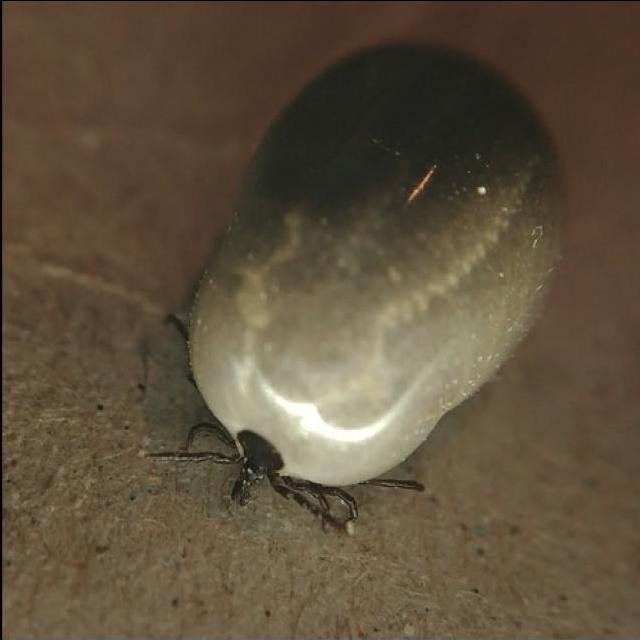Ixodes Ricinus-F: (140, 43, 563, 536)
